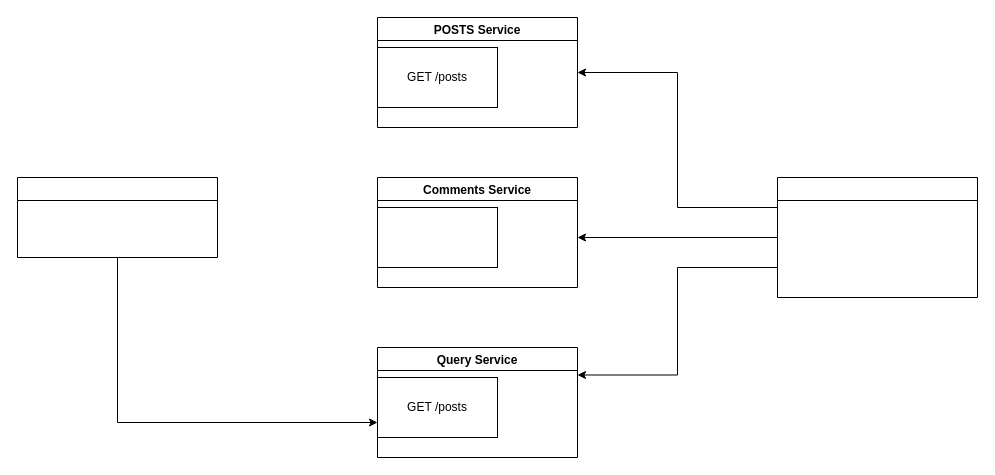
The diagram is 995 pixels wide and 475 high, and some of its shapes have lost their labels. Each missing label, with the box of its shape:
Events: (776, 176, 978, 298)
GET /comments: (376, 206, 498, 268)
React APP: (16, 176, 218, 258)
